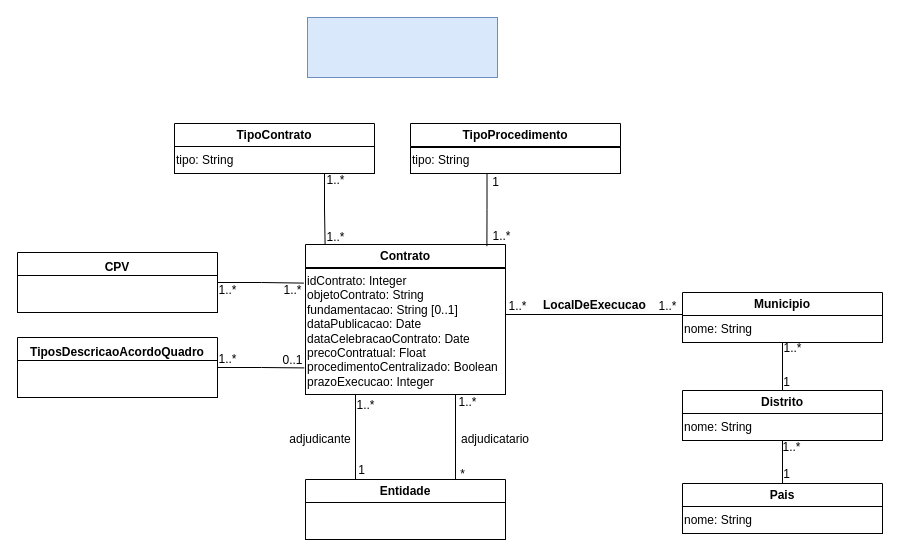
Image size: 900x557. Some labels were removed from this diagram. Each missing label, with the centre of its shape:
"codigoCPV: String descricao: String" goes at point 117,293.
"Diagrama UML Contratos públicos" goes at point 402,47.
"identificador: String [0..1] descricao: String" goes at point 117,379.
"nif: Integer designacao: String" goes at point 405,521.
